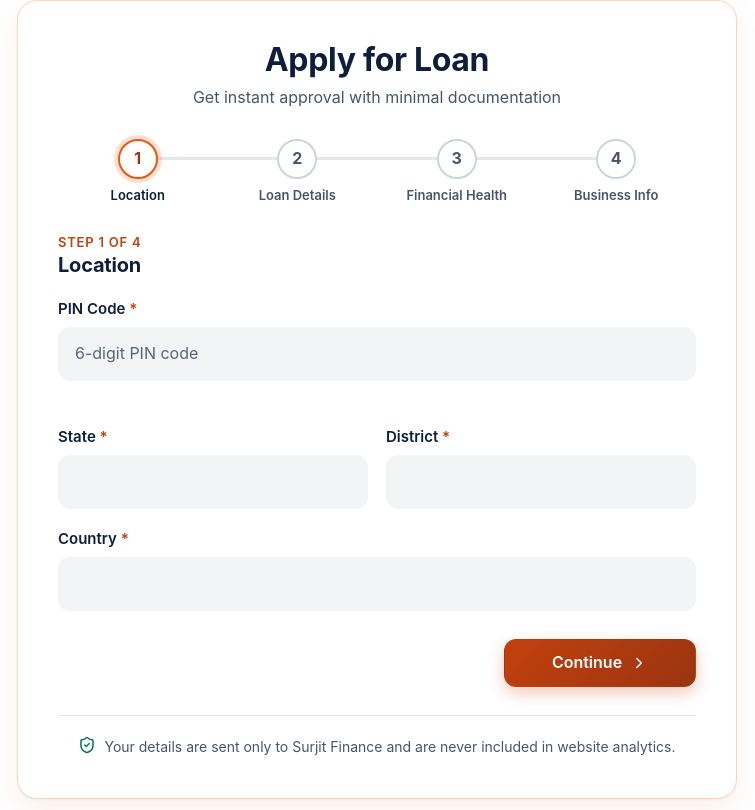
Test: Layout and progress › completed steps are marked as completed, not by colour alone
Type "226001" into the field labelled "PIN Code *".
click(377, 354); type("226001")  # box [59, 328, 695, 380]
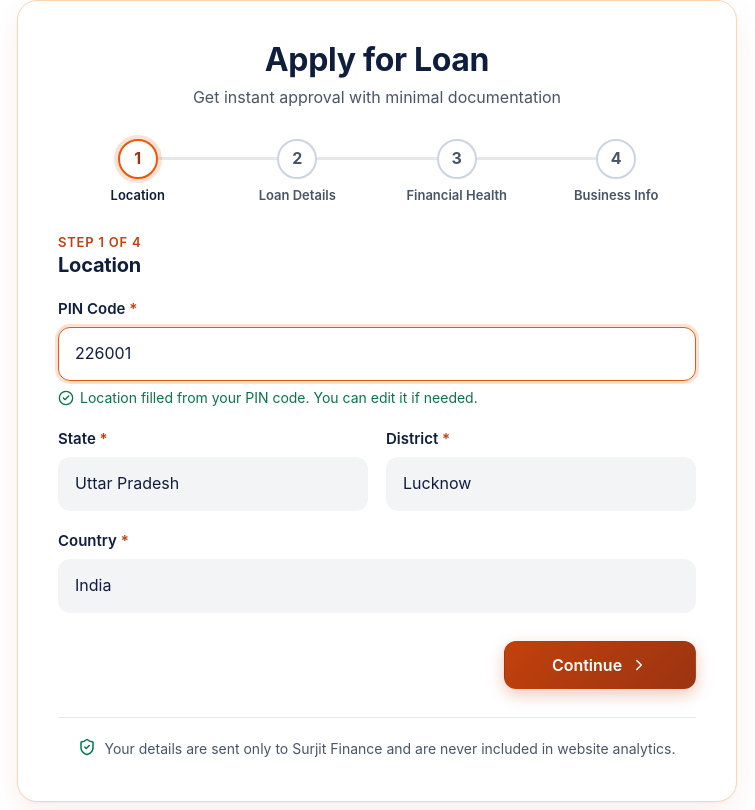
Now the field labelled "State *" holds "Uttar Pradesh", box [59, 458, 367, 510]
Click the button "Continue".
click(600, 665)  # box [504, 641, 696, 689]
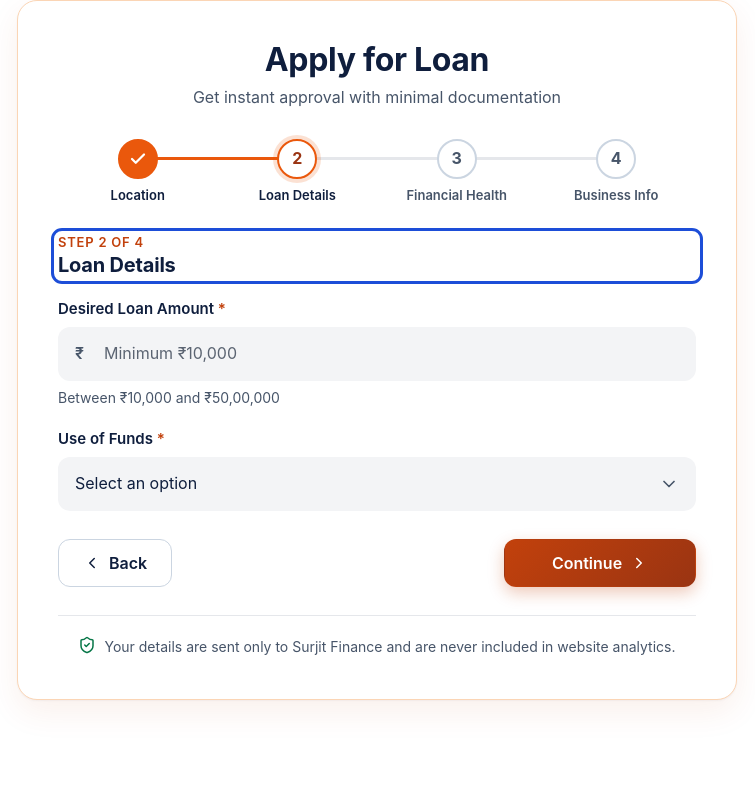
Now the heading "Step 2 of 4 Loan Details" is shown, box [58, 234, 176, 277]
